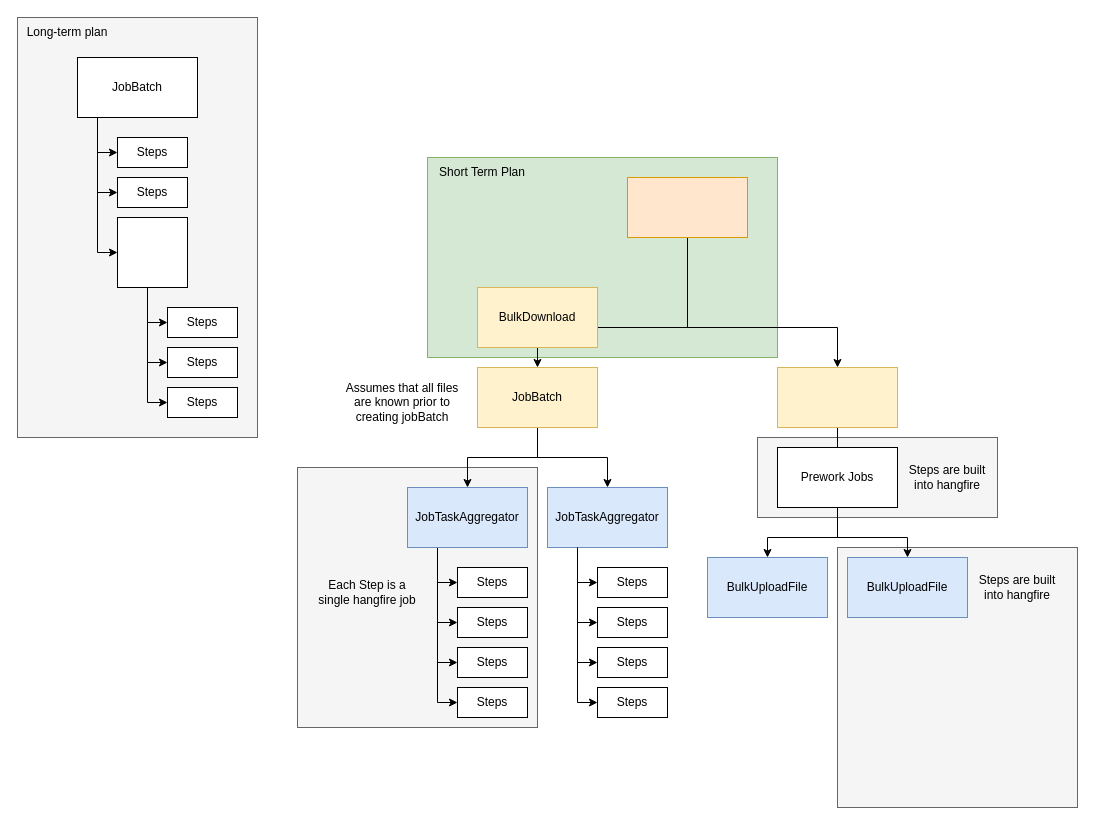
The diagram is 1095 pixels wide and 825 high, and some of its shapes have lost their labels. The box of each missing label's shape, as (x1, y1, x2, y2) in pixels:
BulkUpload: (776, 366, 898, 428)
Generate Files: (116, 216, 188, 288)
MigrationJob: (626, 176, 748, 238)
